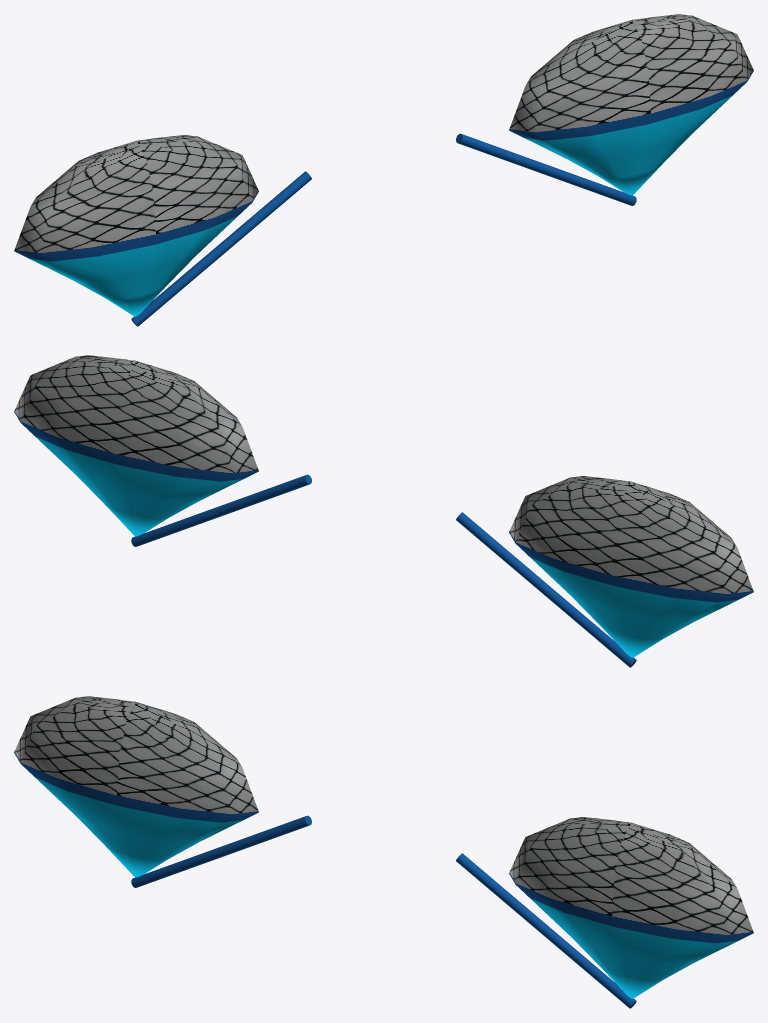
The model's file is Fishing Net 2.FBX.
3 renders of one model, top to bottom at view 1: azimuth 30°, elevation 25°; view 2: azimuth 150°, elevation 25°; view 3: azimuth 330°, elevation 25°, orthographic.
Visible parts, largest first — view 1: Fishing Net 2; view 2: Fishing Net 2; view 3: Fishing Net 2.
Boxes of the visible parts, box(x1,y1,x2,y2) form: Fishing Net 2: box(14, 14, 753, 326); Fishing Net 2: box(14, 355, 753, 667); Fishing Net 2: box(14, 696, 753, 1008).
Bounding box in the file's own units: 33.17 × 7.96 × 3.05.
1 material, 1 textured.
